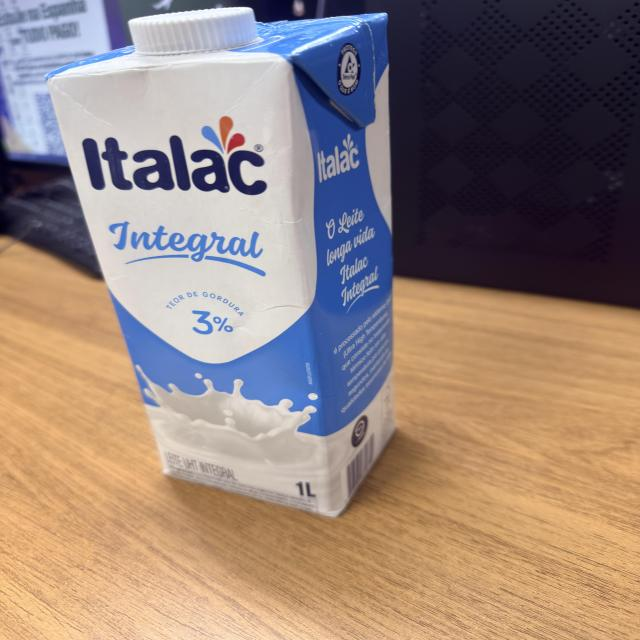Caixa de Leite: (45, 10, 392, 509)
